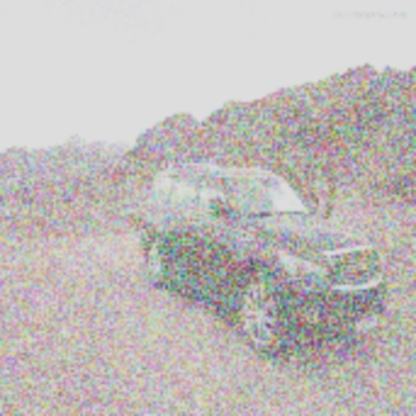Vehicle: (141, 162, 388, 353)
